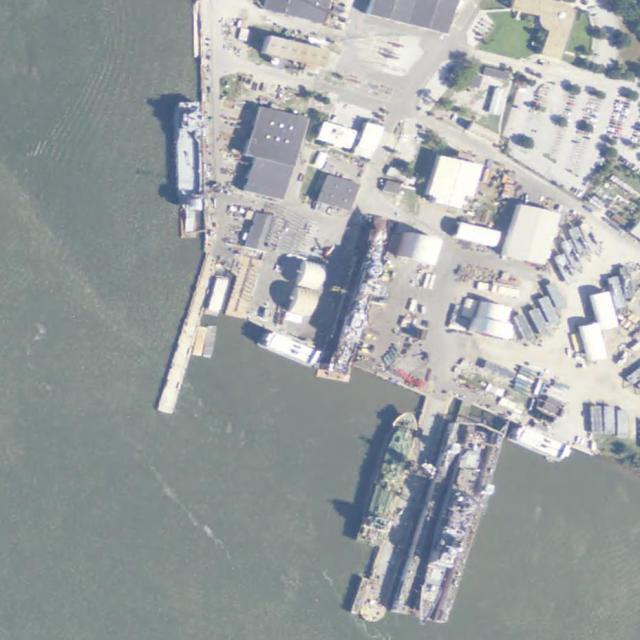Cargo: (352, 407, 427, 551)
Cruiser: (411, 429, 488, 628)
Dock: (359, 391, 454, 625), (158, 252, 220, 416)
Other Ship: (176, 101, 202, 197)
